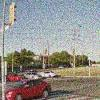cars: (4, 78, 52, 100)
